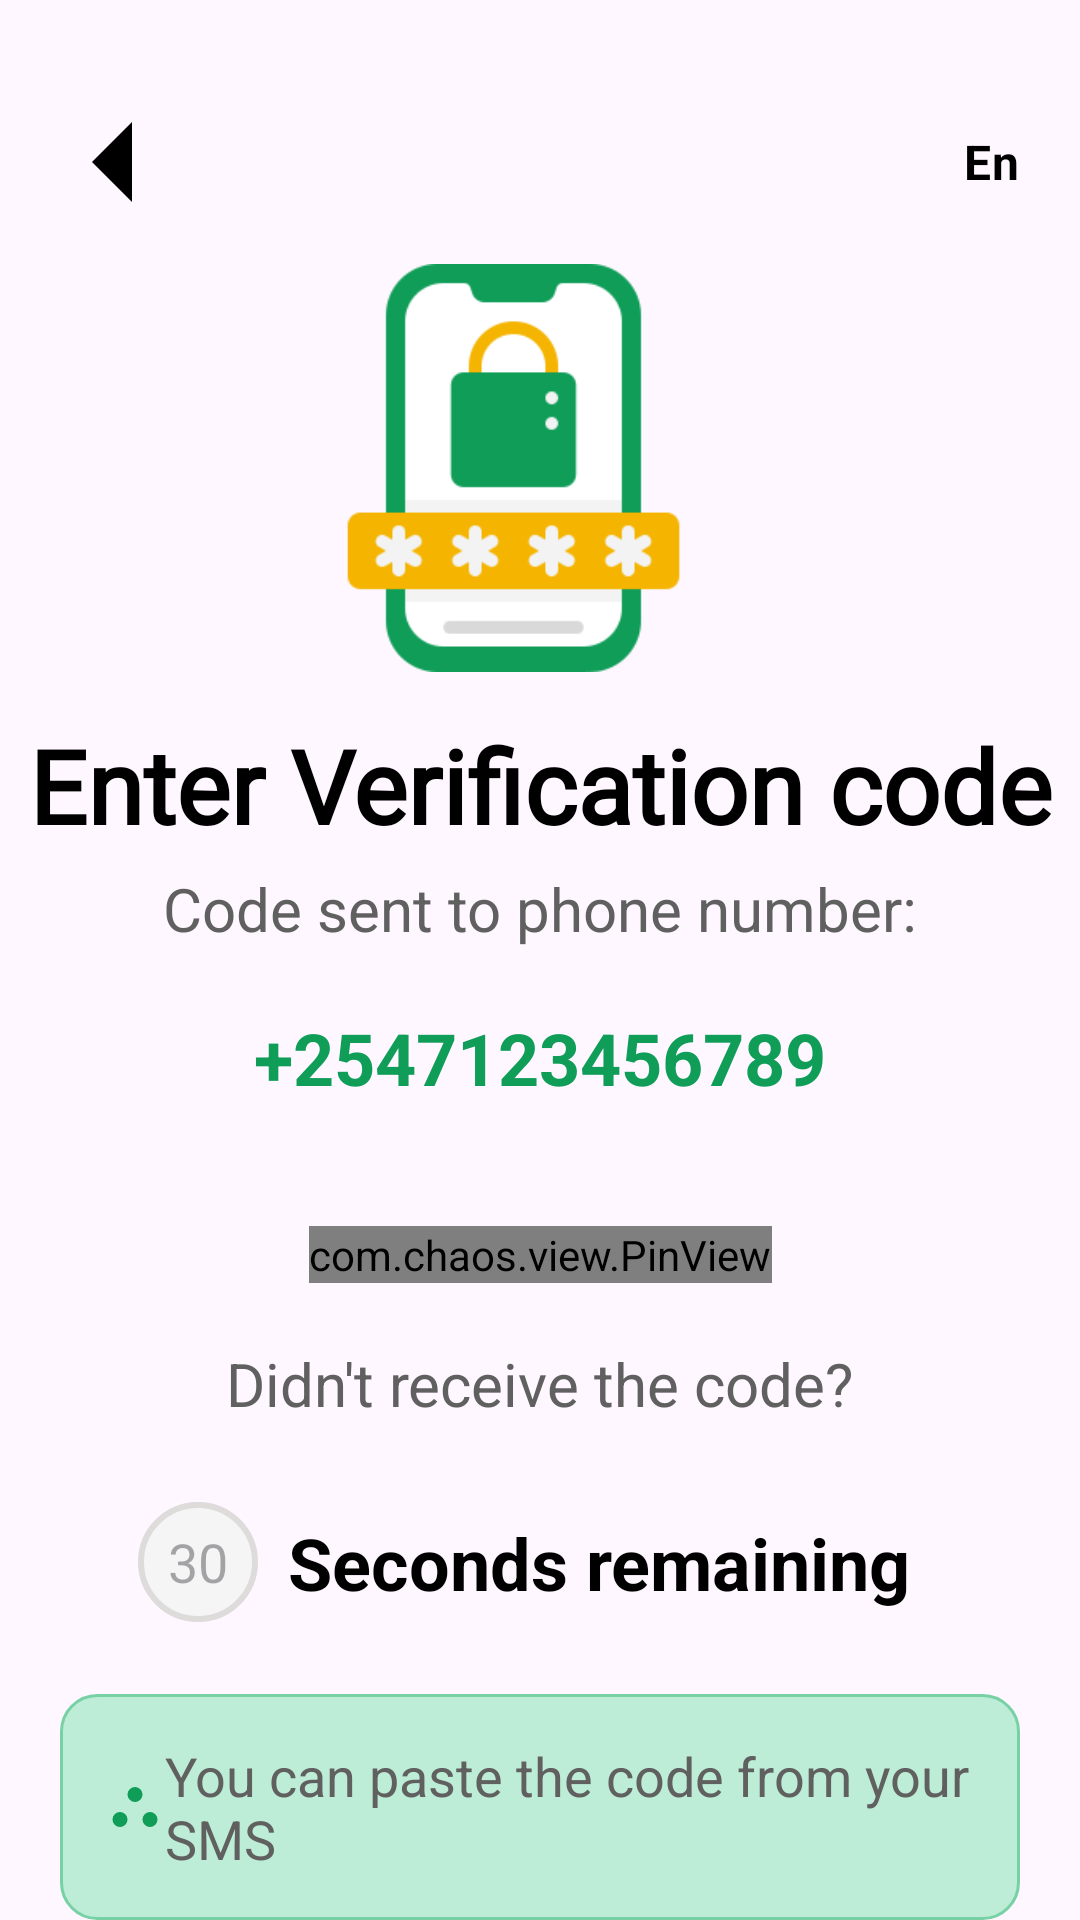

Named icons in this screenshot (1080*1920) and their centers, [x,y]:
arrow left: [112,162]
